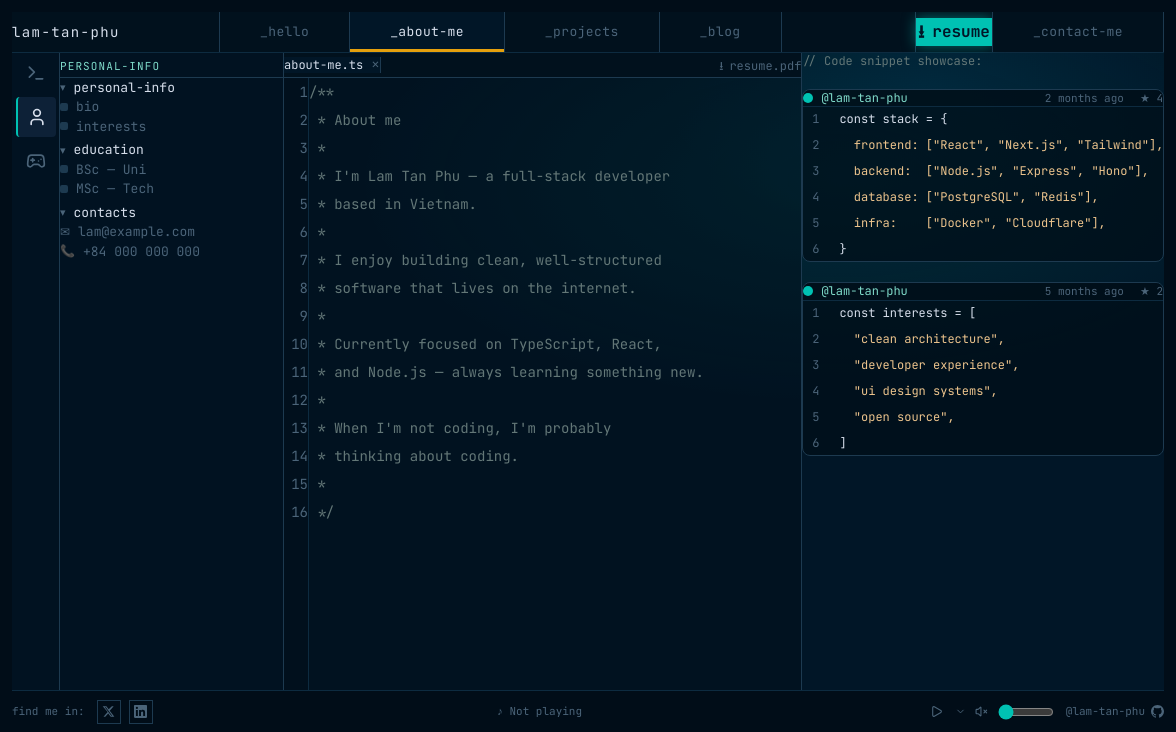
Scenario: AboutPage › "Professional Info" shows jobs, skills and certificates
This screenshot has width=1176, height=732.
What coordinates should you click on to do the following:
click the button titled "Professional Info"
I would click on:
 (36, 72)
Its box is [16,52,56,92].
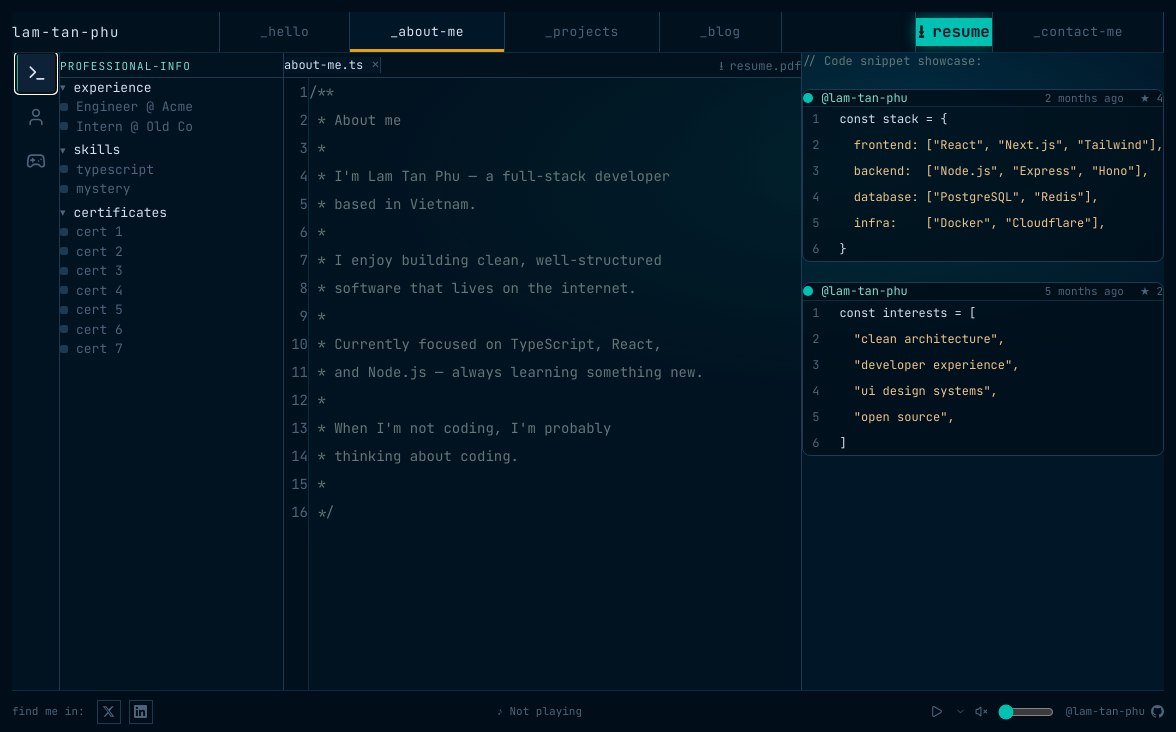
expect the text "professional-info" is shown: met, box [60,58,191,72]
